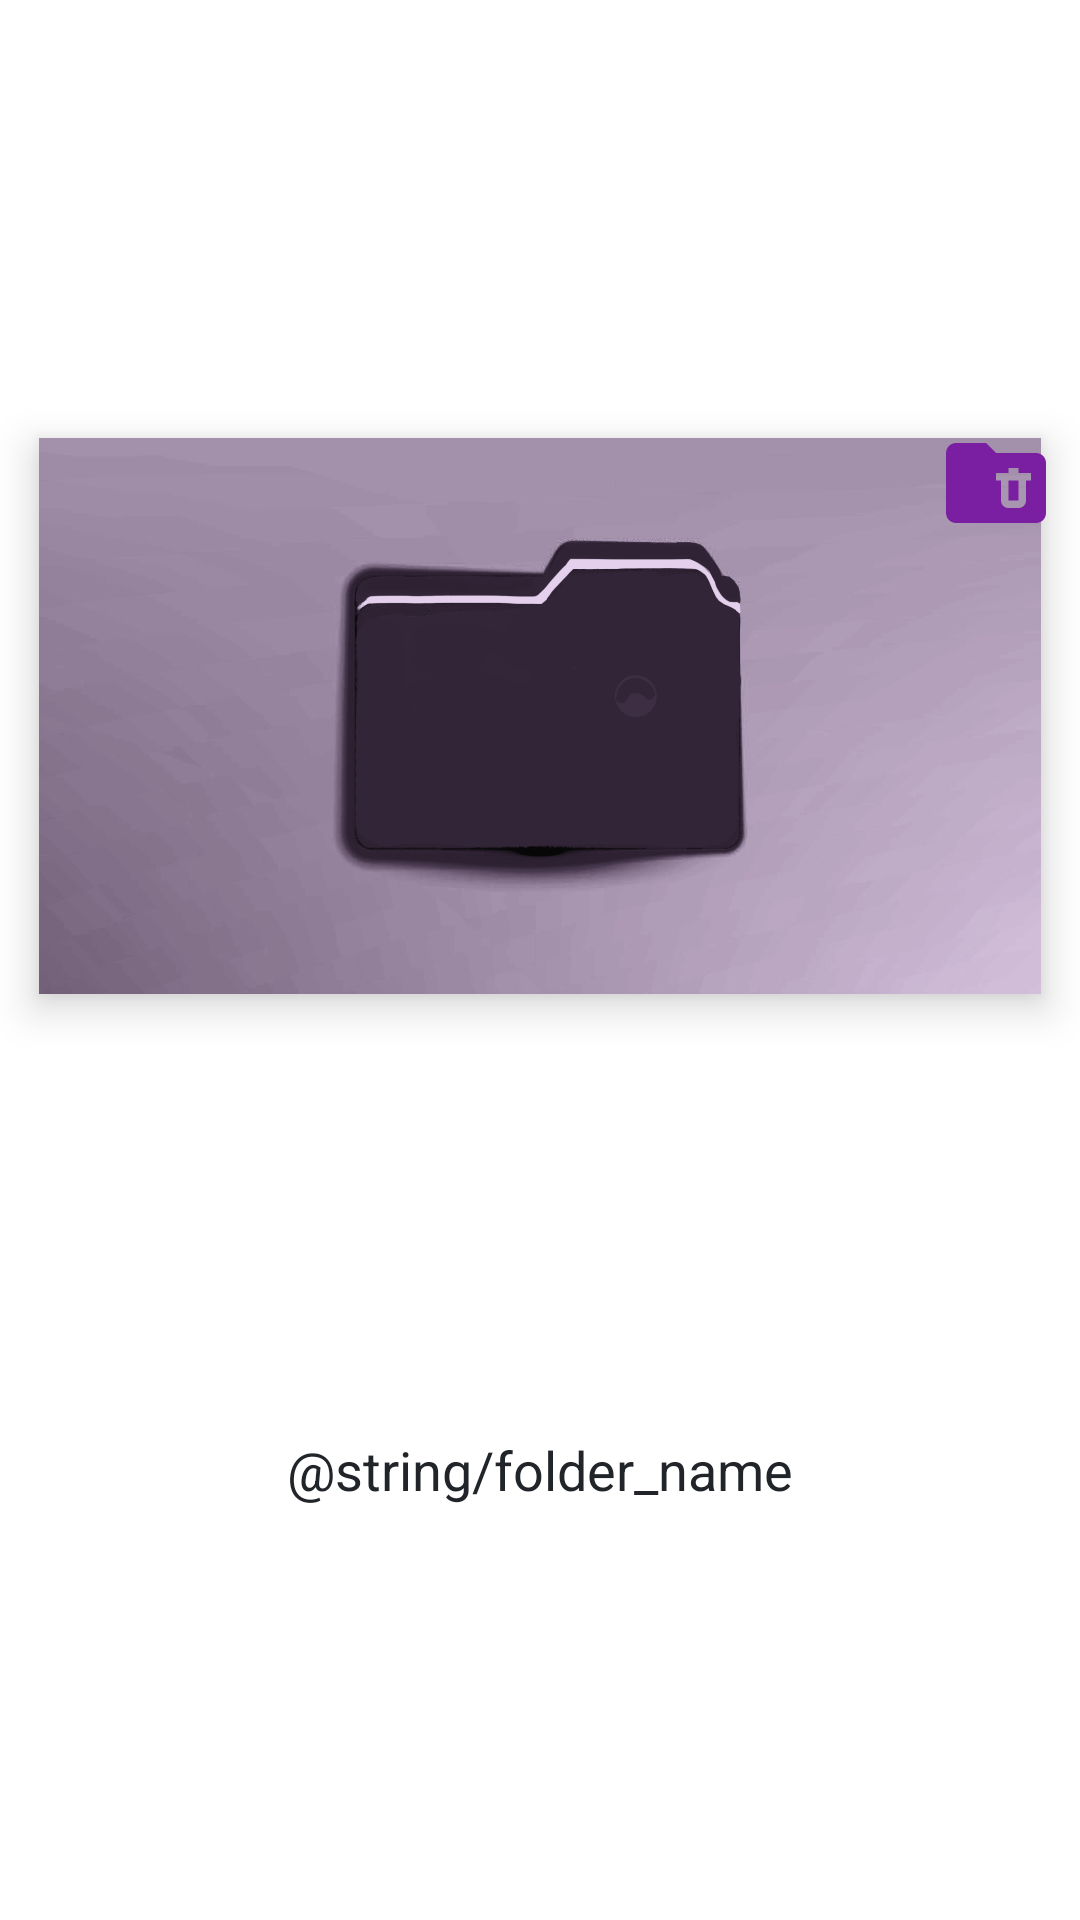

Where to tap for icons on this 1080×1920 app screen, as (x,y):
folder delete: (996,483)
